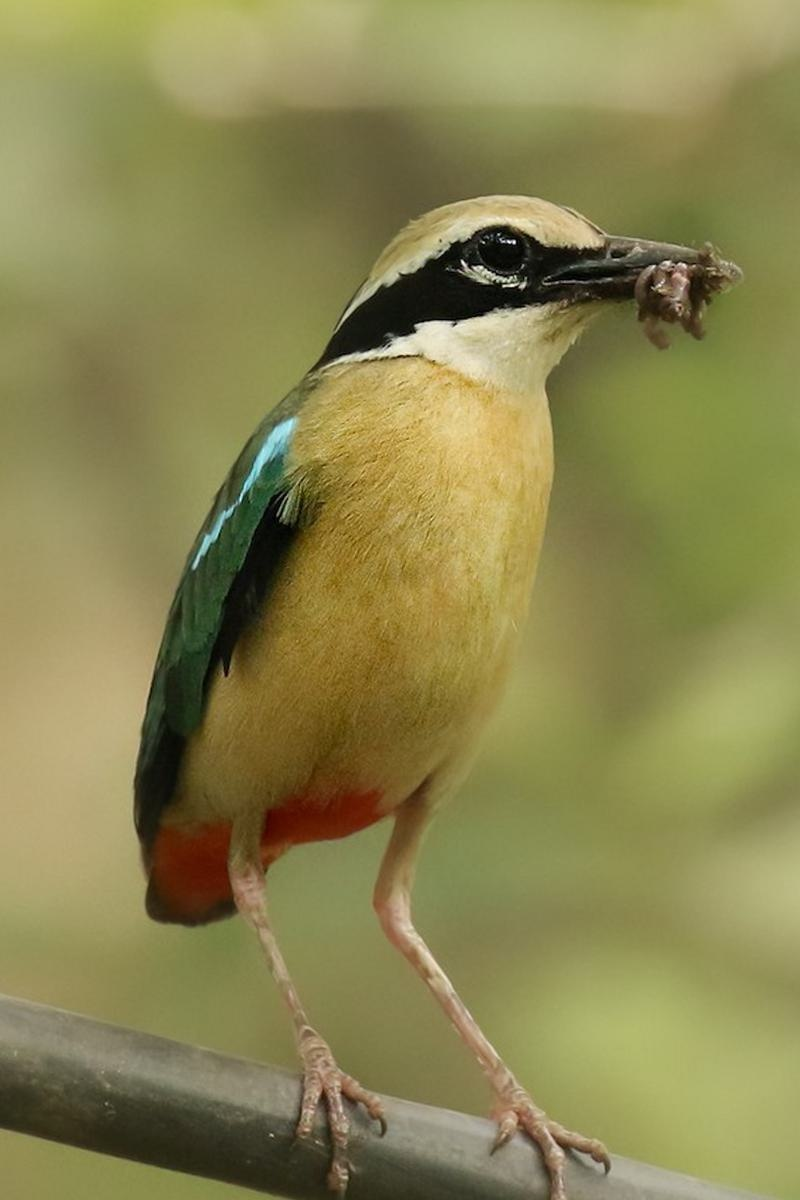pitta: (106, 173, 735, 1159)
